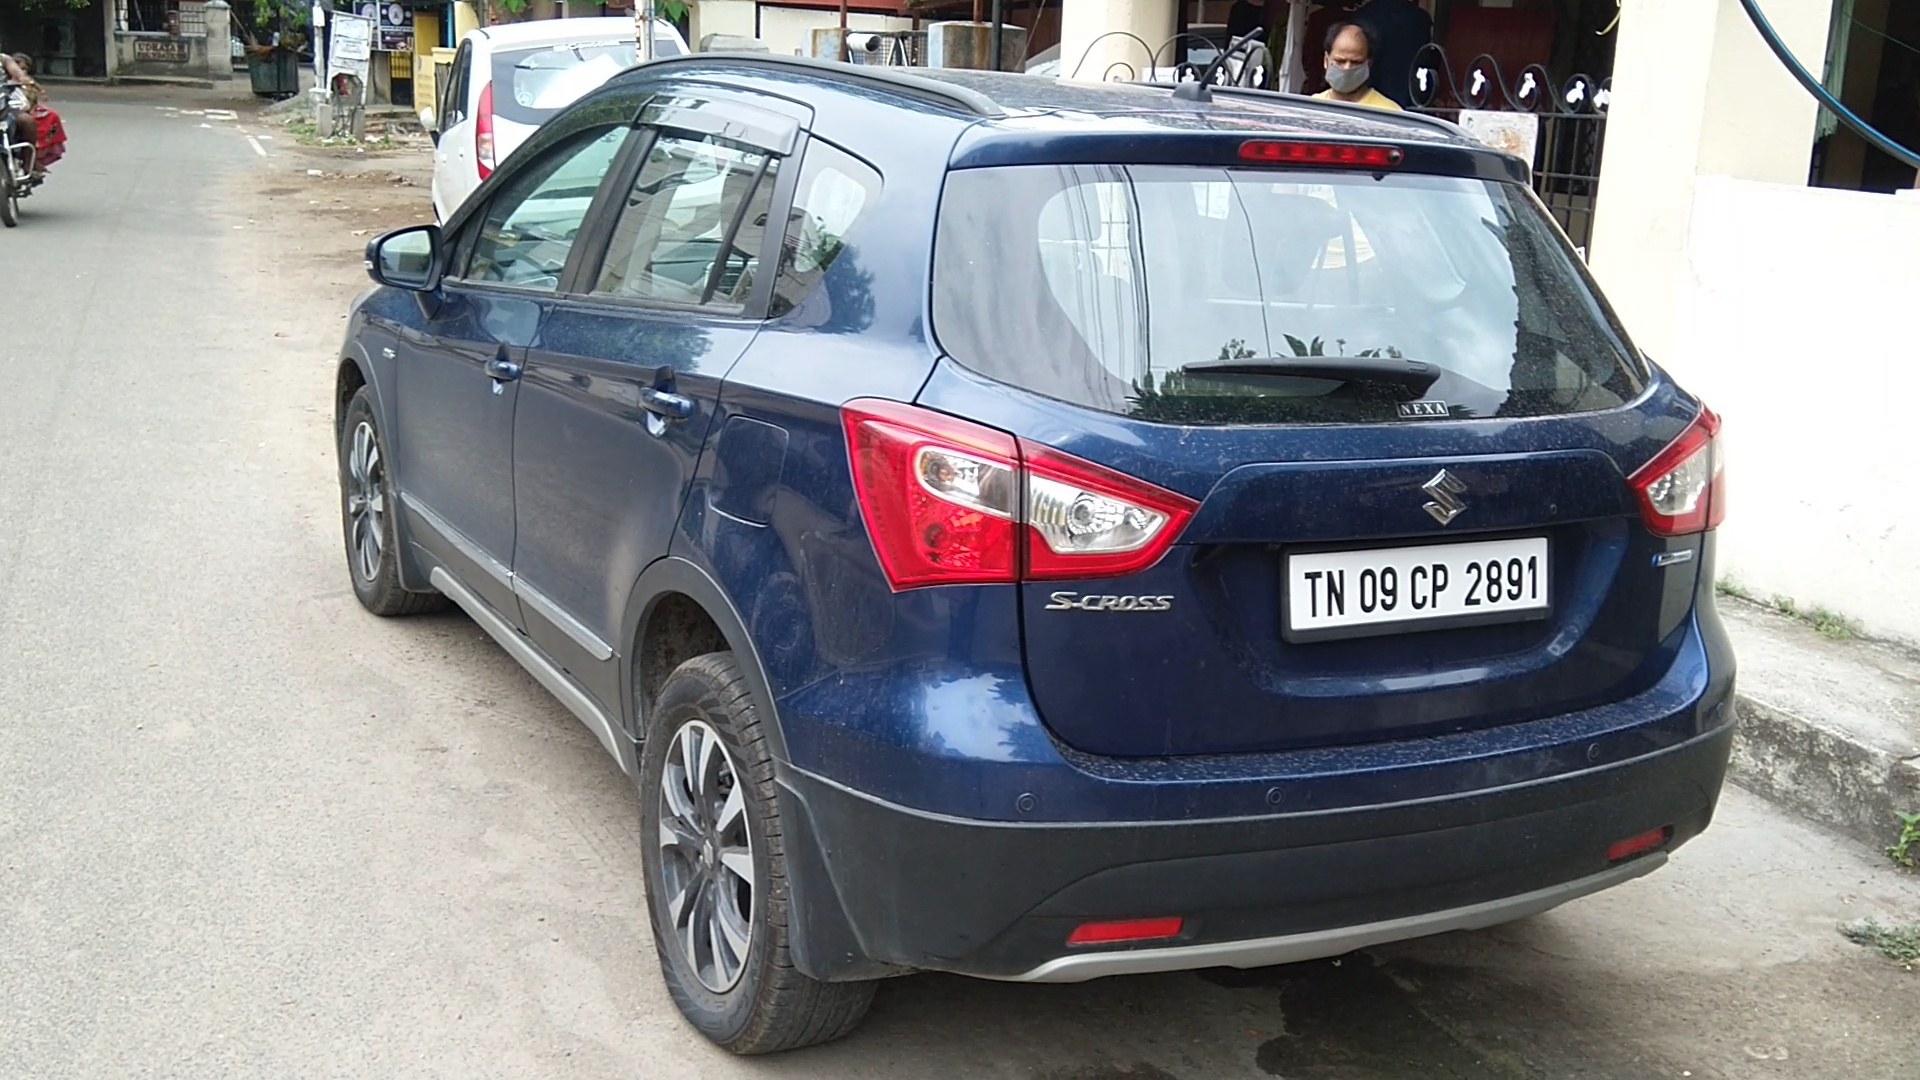alloy_wheel: (641, 658, 811, 1052), (344, 390, 394, 613)
rear_camera: (1378, 138, 1416, 183)
